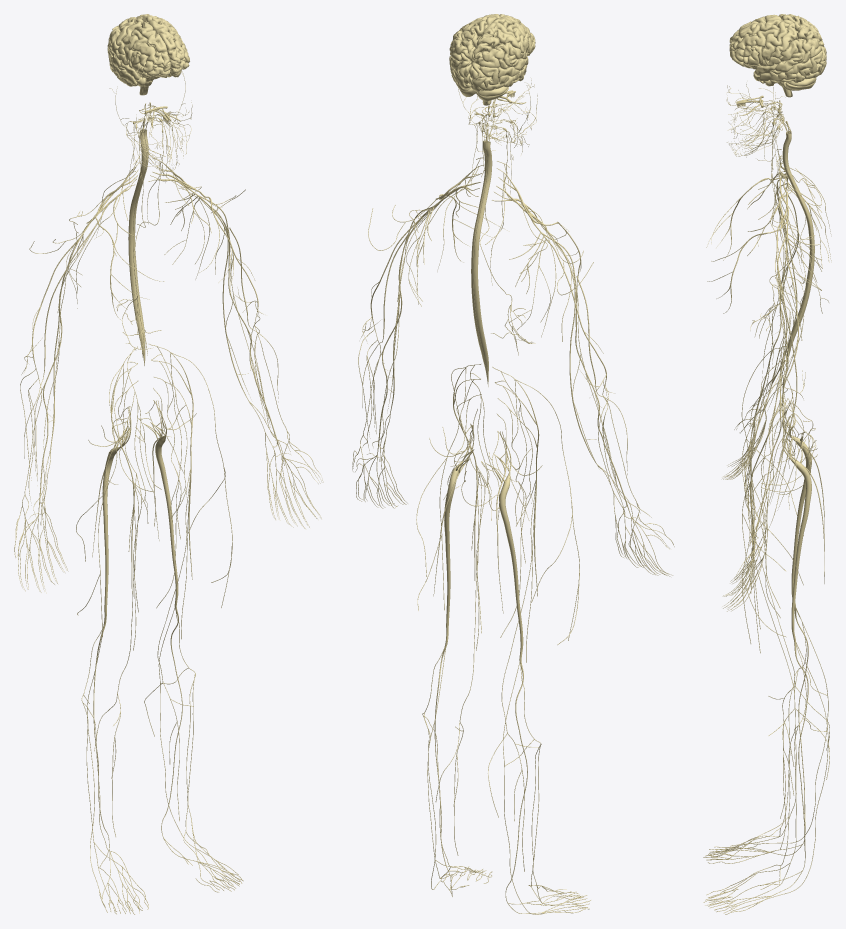
File: nerves.glb
The picture shows the model from 3 angles, left to right: view 1: azimuth 30°, elevation 25°; view 2: azimuth 150°, elevation 25°; view 3: azimuth 270°, elevation 25°; orthographic projection. The views are drawn at different scales.
Parts seen in each view (by area): view 1: Brachial_Plexus_L, Brachial_Plexus_R, Brain, Sciatic_Nerve_R, Sciatic_Nerve_L, Lumbar_Plexus_R, Lumbar_Plexus_L, Cranial_Nerves, Spinal_Cord, Sacral_Plexus_R; view 2: Brain, Brachial_Plexus_L, Brachial_Plexus_R, Sciatic_Nerve_L, Lumbar_Plexus_L, Lumbar_Plexus_R, Sciatic_Nerve_R, Cranial_Nerves, Spinal_Cord, Sacral_Plexus_L, Sacral_Plexus_R; view 3: Brain, Brachial_Plexus_R, Brachial_Plexus_L, Sciatic_Nerve_R, Sciatic_Nerve_L, Cranial_Nerves, Lumbar_Plexus_R, Lumbar_Plexus_L, Spinal_Cord, Sacral_Plexus_R, Sacral_Plexus_L.
Part boxes in pixels (<box>): Brachial_Plexus_L: <box>14,154,164,593</box>; Brachial_Plexus_R: <box>147,151,323,529</box>; Brain: <box>107,14,189,95</box>; Sciatic_Nerve_R: <box>142,400,243,892</box>; Sciatic_Nerve_L: <box>81,407,148,914</box>; Lumbar_Plexus_R: <box>144,194,232,821</box>; Lumbar_Plexus_L: <box>76,346,155,836</box>; Cranial_Nerves: <box>109,71,192,357</box>; Spinal_Cord: <box>128,121,148,365</box>; Sacral_Plexus_R: <box>135,388,196,540</box>; Brain: <box>449,14,535,105</box>; Brachial_Plexus_L: <box>490,161,674,576</box>; Brachial_Plexus_R: <box>352,157,509,508</box>; Sciatic_Nerve_L: <box>486,431,590,914</box>; Lumbar_Plexus_L: <box>488,366,579,871</box>; Lumbar_Plexus_R: <box>416,207,499,855</box>; Sciatic_Nerve_R: <box>422,424,492,896</box>; Cranial_Nerves: <box>451,77,537,355</box>; Spinal_Cord: <box>471,128,492,386</box>; Sacral_Plexus_L: <box>478,414,542,613</box>; Sacral_Plexus_R: <box>429,409,496,596</box>; Brain: <box>729,14,826,97</box>; Brachial_Plexus_R: <box>707,155,831,611</box>; Brachial_Plexus_L: <box>706,149,831,479</box>; Sciatic_Nerve_R: <box>703,415,828,914</box>; Sciatic_Nerve_L: <box>703,402,828,863</box>; Cranial_Nerves: <box>726,84,797,338</box>; Lumbar_Plexus_R: <box>741,233,829,849</box>; Lumbar_Plexus_L: <box>741,346,829,818</box>; Spinal_Cord: <box>782,121,814,366</box>; Sacral_Plexus_R: <box>761,398,824,583</box>; Sacral_Plexus_L: <box>761,389,824,551</box>.
Size of the model in its own units: 0.6675 by 1.77 by 0.2385.
